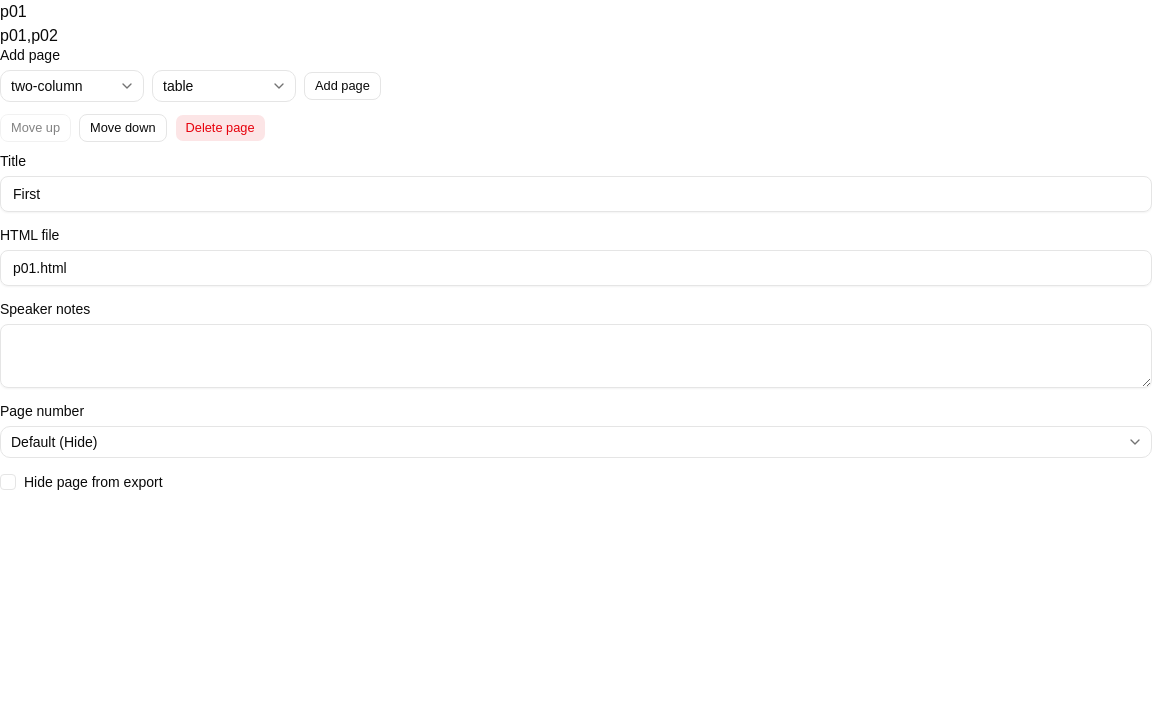
Test: workshop page lifecycle › deletes the selected page after confirming the dialog
The width and height of the screenshot is (1152, 720).
Click the button "Delete page": (220, 128) [174, 114, 266, 142]
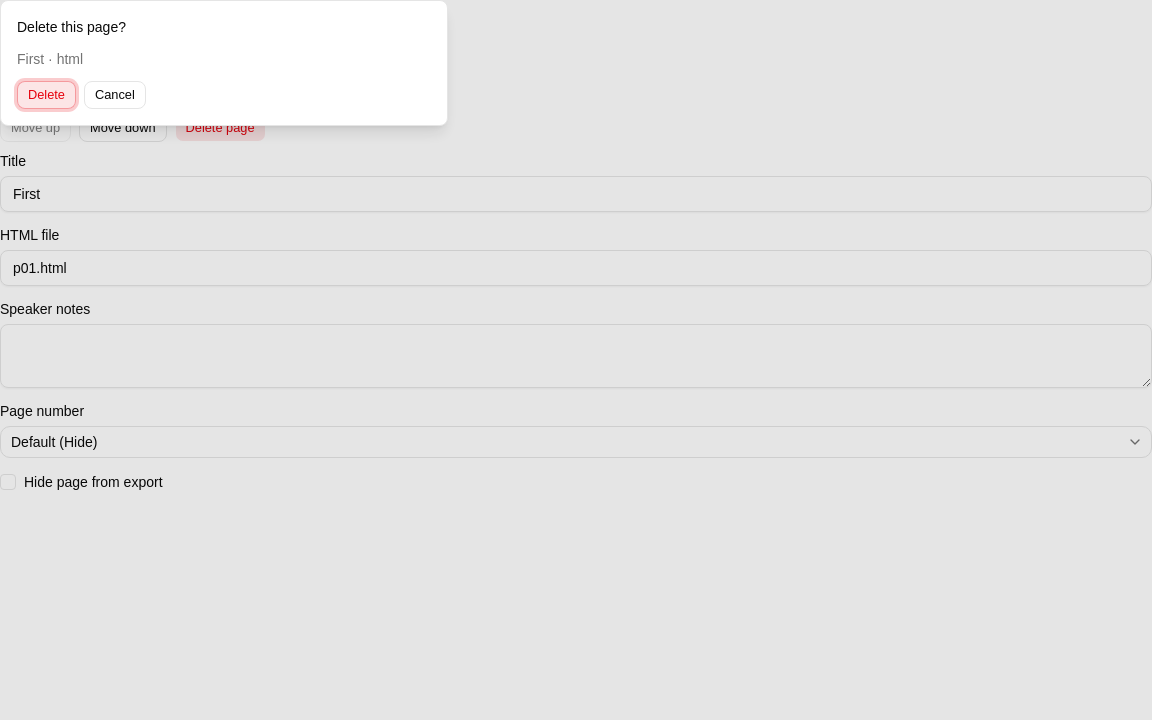
Now the dialog shows "First · html", box [0, 0, 448, 126]
Click the button "Delete": (46, 95) [17, 81, 76, 109]
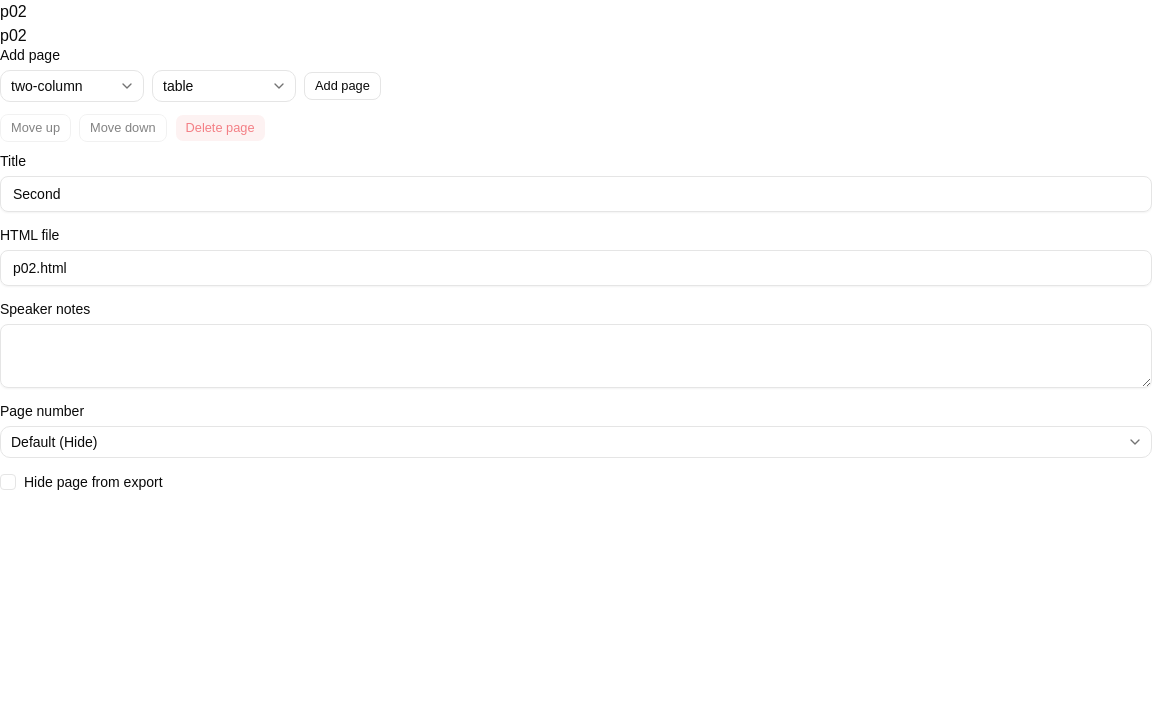
Now the text with test id "page-ids" reads "p02", box [0, 27, 27, 44]
Now the text with test id "selected-page" reads "p02", box [0, 3, 27, 20]
